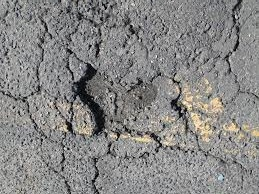pothole: (77, 65, 117, 137), (126, 77, 157, 118)
